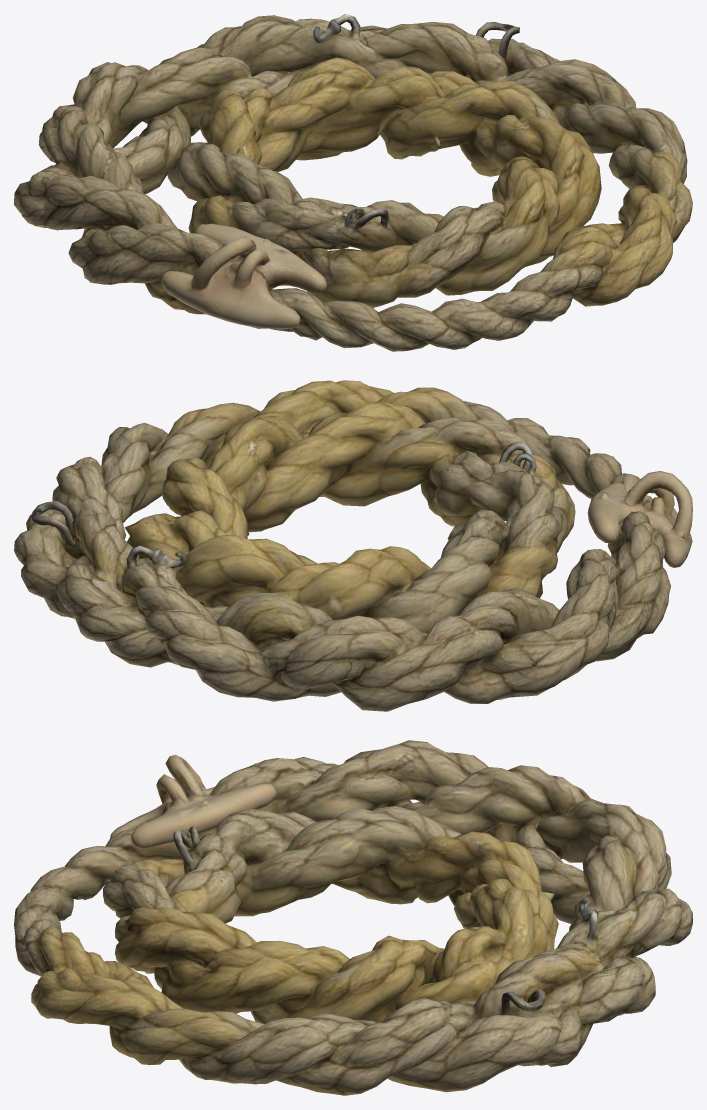
The model's file is song_cord.glb.
3 renders of one model, top to bottom at view 1: azimuth 30°, elevation 25°; view 2: azimuth 150°, elevation 25°; view 3: azimuth 270°, elevation 25°, orthographic. The views are drawn at different scales.
Visible parts, largest first — view 1: song_cord; view 2: song_cord; view 3: song_cord.
Part boxes in pixels (x1,y1,x2,y2): song_cord: [14, 14, 692, 351]; song_cord: [14, 380, 692, 711]; song_cord: [14, 740, 692, 1095].
Bounding box in the file's own units: 0.6 × 0.1022 × 0.6.
1 material, 1 textured.
